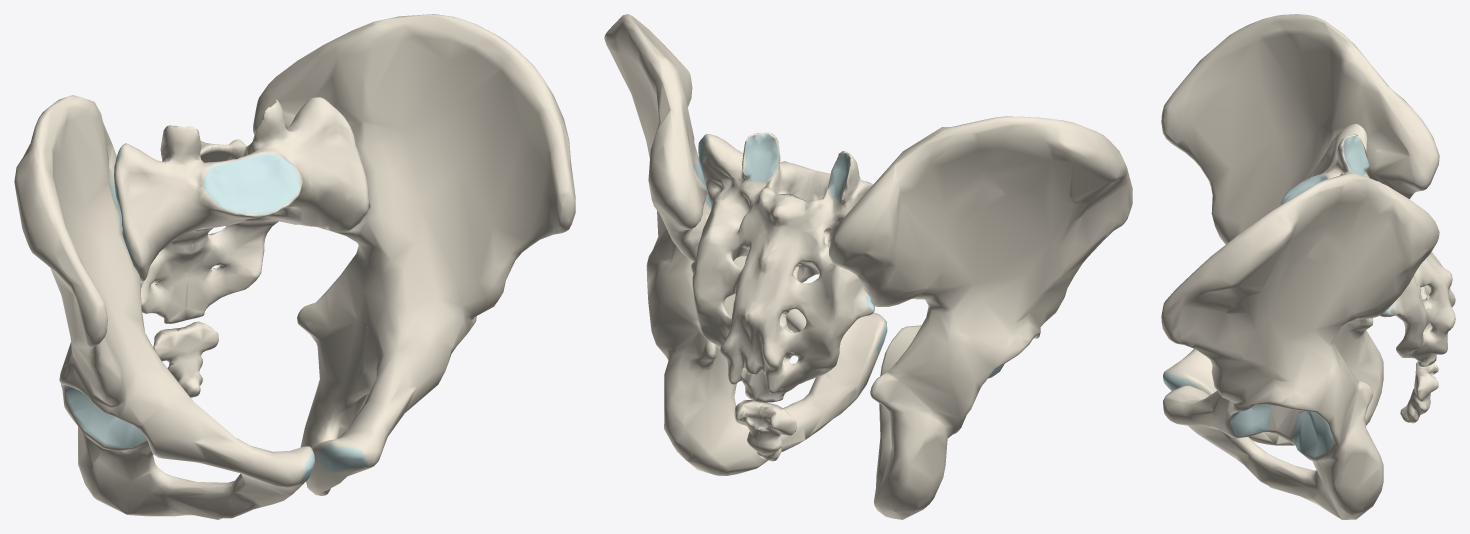
File: pelvis.glb
3 renders of one model, left to right at view 1: azimuth 30°, elevation 25°; view 2: azimuth 150°, elevation 25°; view 3: azimuth 270°, elevation 25°, orthographic. The views are drawn at different scales.
Visible parts, largest first — view 1: Hip bone (left), Hip bone (right), Sacrum, Coccyx; view 2: Hip bone (right), Sacrum, Hip bone (left), Coccyx; view 3: Hip bone (left), Hip bone (right), Sacrum, Coccyx.
Boxes of the visible parts, bbox=[...] form: Hip bone (left): bbox=[253, 14, 575, 495]; Hip bone (right): bbox=[14, 95, 314, 519]; Sacrum: bbox=[114, 97, 369, 323]; Coccyx: bbox=[153, 321, 218, 397]; Hip bone (right): bbox=[829, 116, 1132, 519]; Sacrum: bbox=[691, 132, 874, 402]; Hip bone (left): bbox=[604, 14, 887, 475]; Coccyx: bbox=[734, 400, 796, 461]; Hip bone (left): bbox=[1161, 172, 1439, 519]; Hip bone (right): bbox=[1161, 14, 1439, 445]; Sacrum: bbox=[1279, 123, 1455, 366]; Coccyx: bbox=[1400, 362, 1438, 423].
Size of the model in its own units: 0.2698 by 0.2146 by 0.1511.
